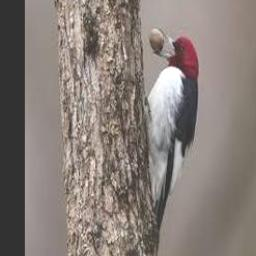Woodpecker: (145, 27, 199, 255)
